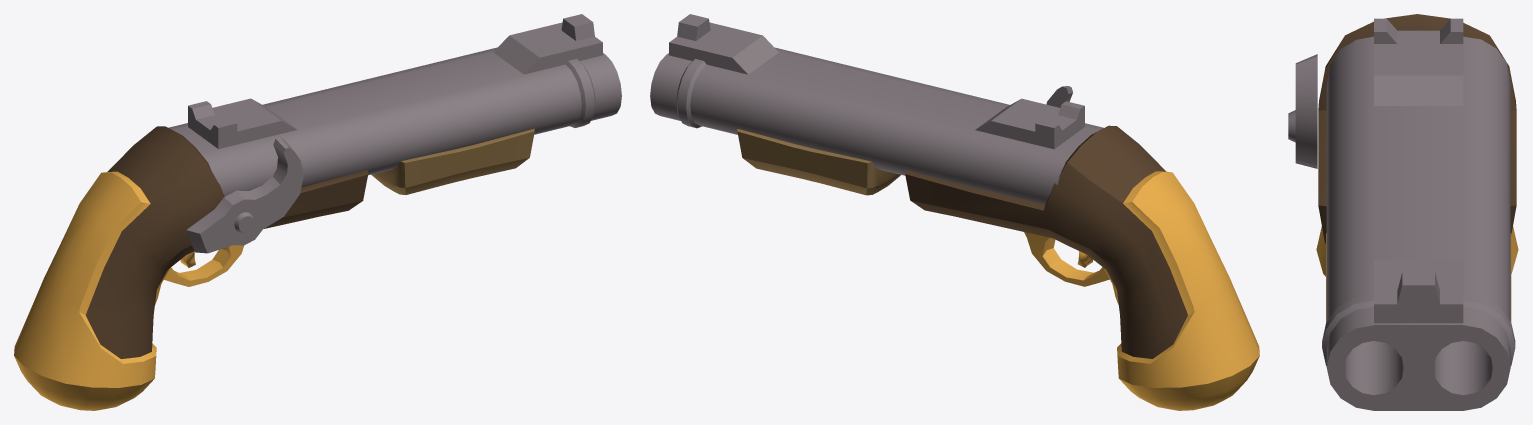
The model's file is shotgun.glb.
3 renders of one model, left to right at view 1: azimuth 30°, elevation 25°; view 2: azimuth 150°, elevation 25°; view 3: azimuth 270°, elevation 25°, orthographic. The views are drawn at different scales.
Visible parts, largest first — view 1: shotgun, flintlock; view 2: shotgun; view 3: shotgun, flintlock.
Part boxes in pixels (x1,y1,x2,y2): shotgun: (14, 14, 621, 410); flintlock: (186, 137, 303, 253); shotgun: (650, 14, 1259, 410); shotgun: (1316, 14, 1518, 410); flintlock: (1288, 54, 1317, 168).
Bounding box in the file's own units: 1.58 × 0.6987 × 0.3802.
Materials: 1 (1 with a texture image).
